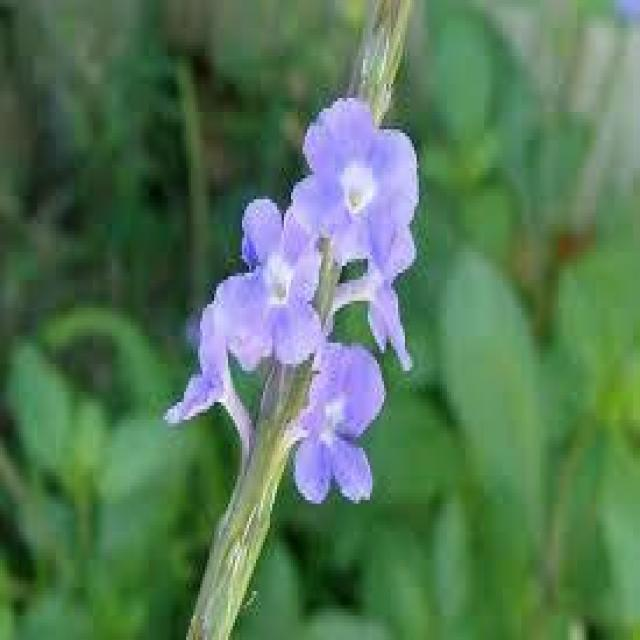organic waste: (294, 89, 436, 306), (193, 184, 349, 372), (285, 328, 395, 524)
